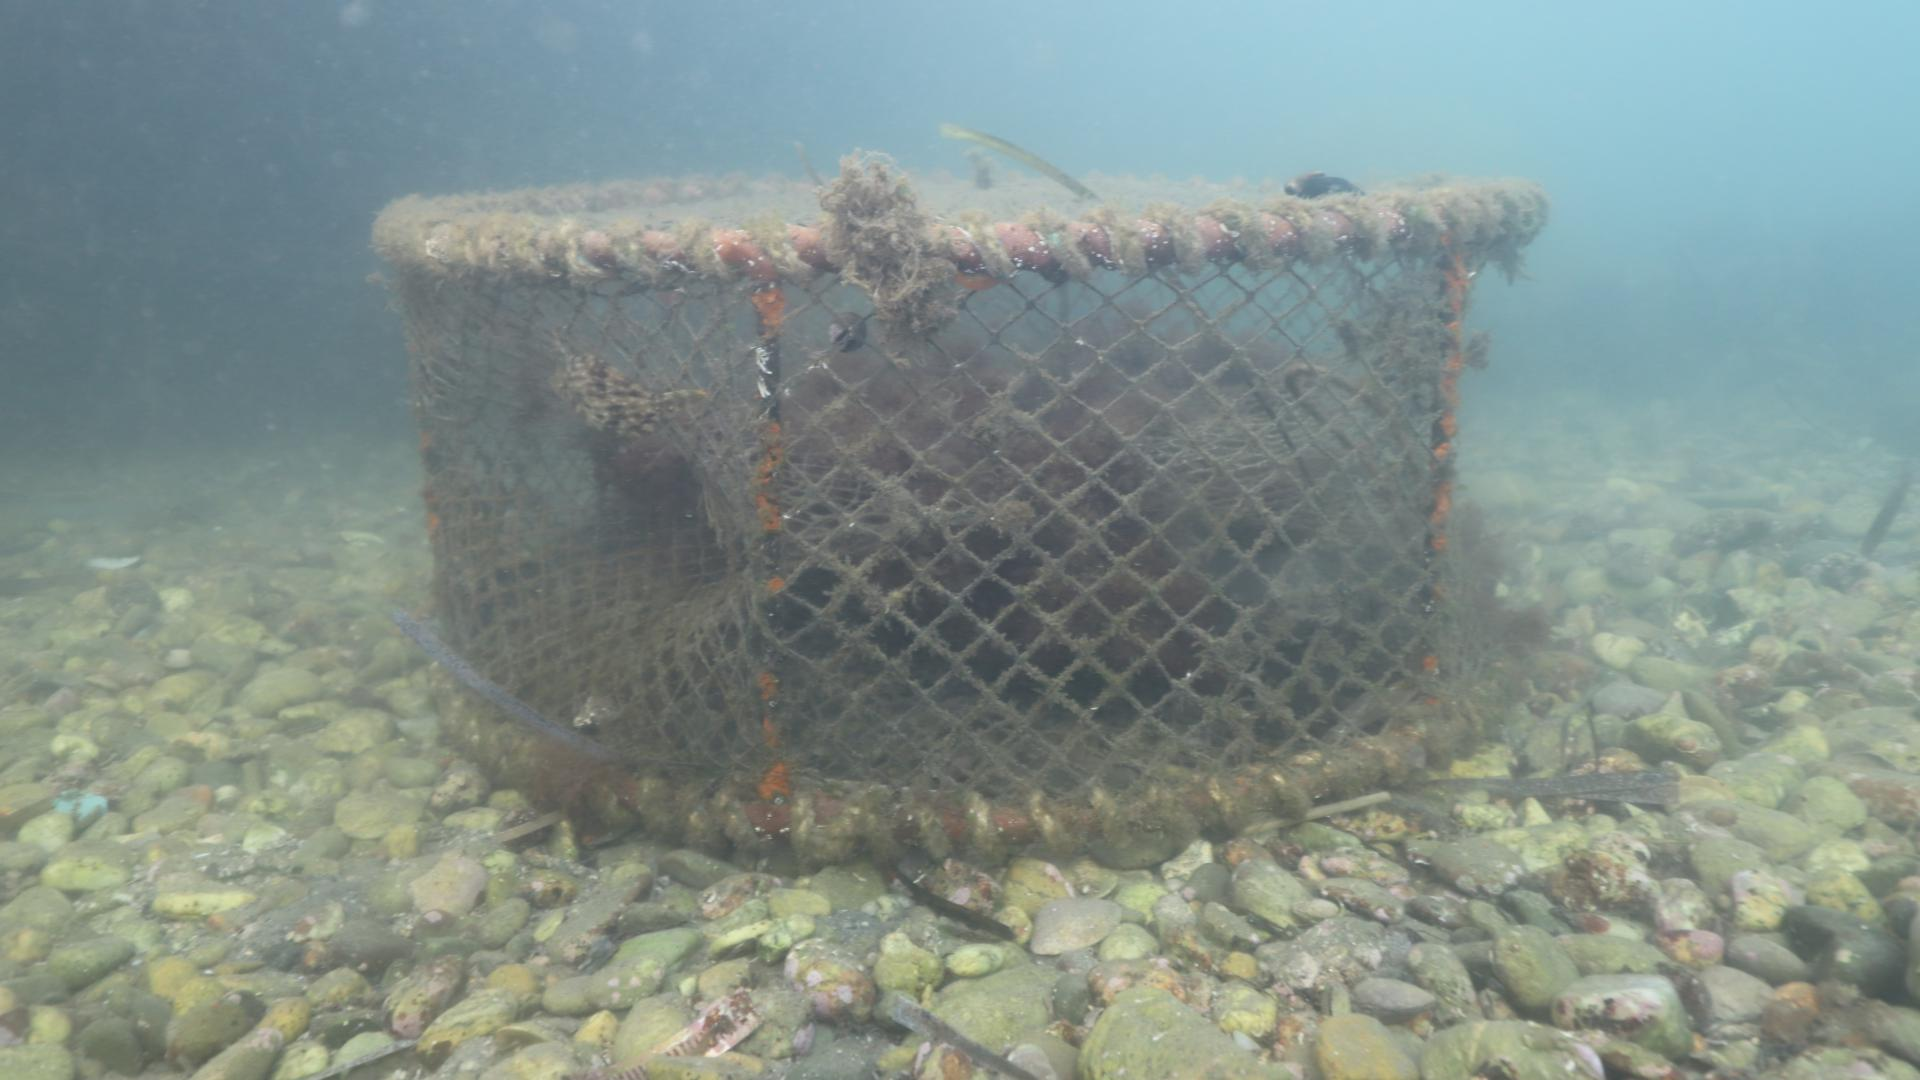circular fish trap: (367, 167, 1545, 866)
